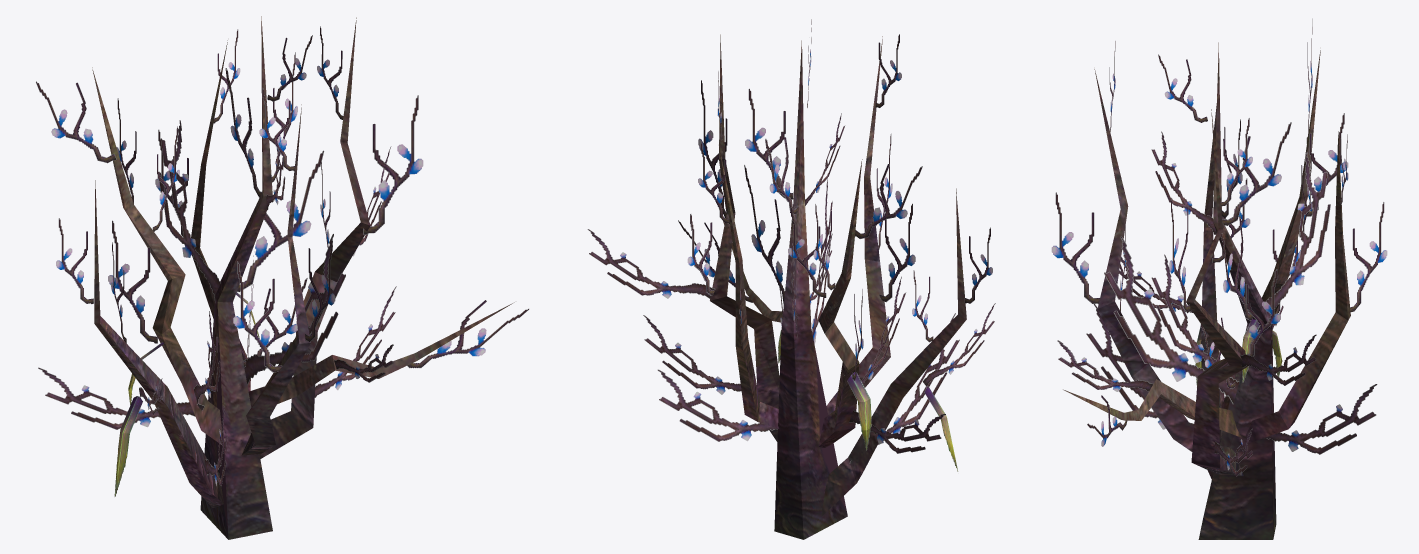
The model's file is DZMG_YHY_Cao01.FBX.
The picture shows the model from 3 angles, left to right: view 1: azimuth 30°, elevation 25°; view 2: azimuth 150°, elevation 25°; view 3: azimuth 270°, elevation 25°; orthographic projection. The views are drawn at different scales.
Visible parts, largest first — view 1: DZMG_YHY_Cao01; view 2: DZMG_YHY_Cao01; view 3: DZMG_YHY_Cao01.
Part boxes in pixels (<box>): DZMG_YHY_Cao01: <box>36,16,529,539</box>; DZMG_YHY_Cao01: <box>587,19,995,539</box>; DZMG_YHY_Cao01: <box>1051,18,1387,539</box>.
Bounding box in the file's own units: 239 × 285 × 189.
